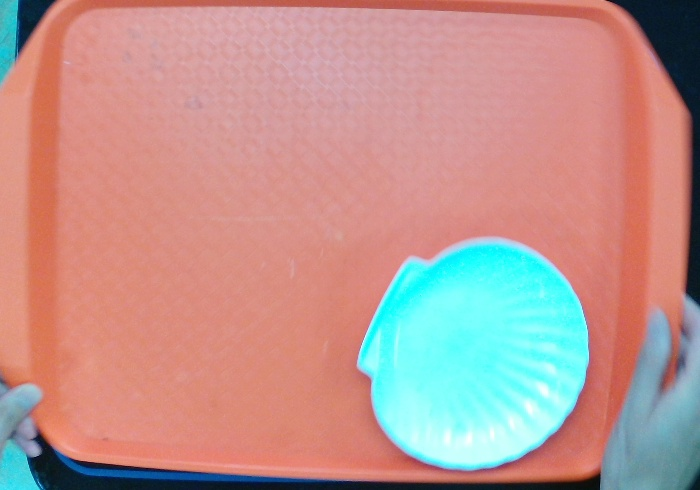RJxy-Bei_Ke_Wan: (354, 235, 590, 471)
